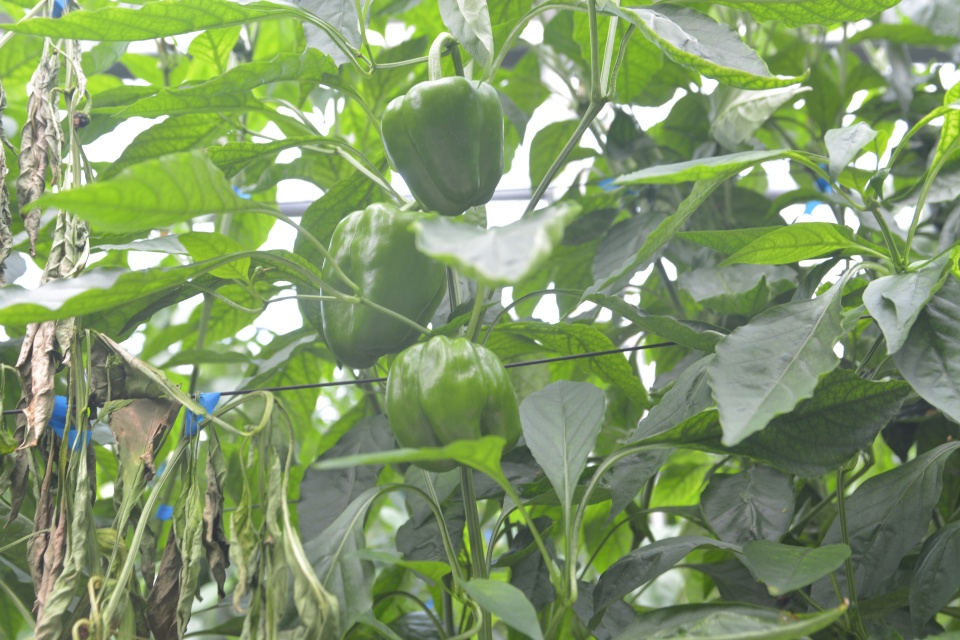fruit: (315, 200, 451, 370), (383, 332, 523, 476), (377, 73, 505, 217)
